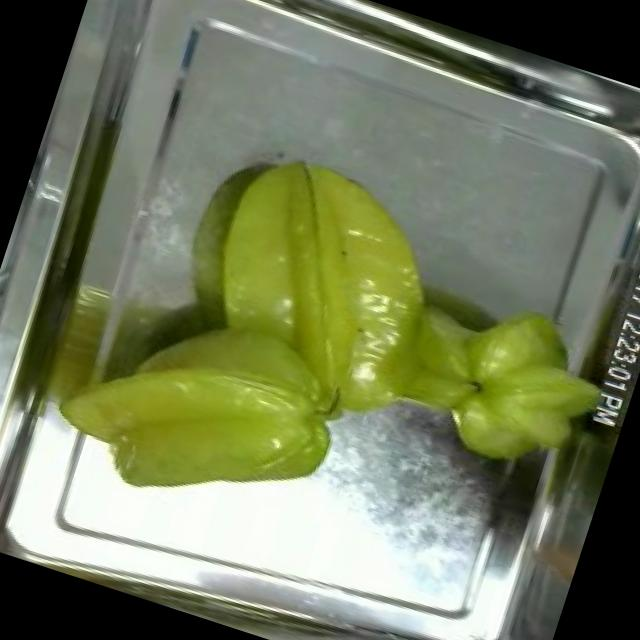fruit: (54, 97, 450, 562), (24, 260, 374, 552), (166, 125, 476, 444), (426, 282, 630, 498)
